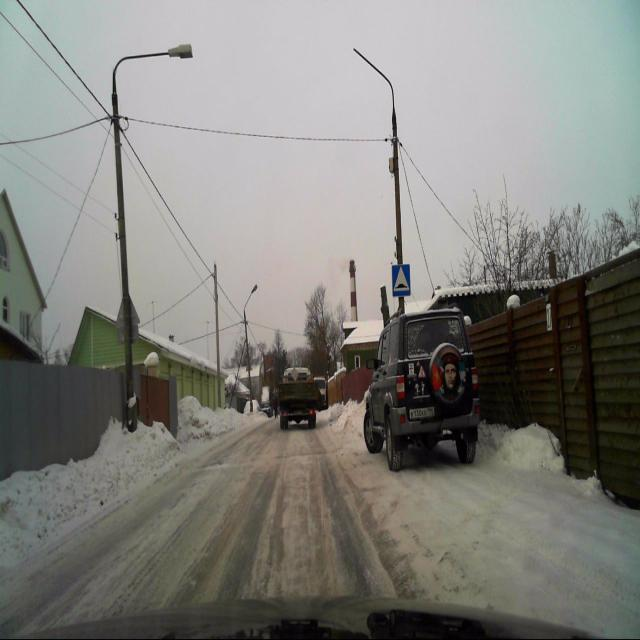road sign: (392, 264, 410, 295)
